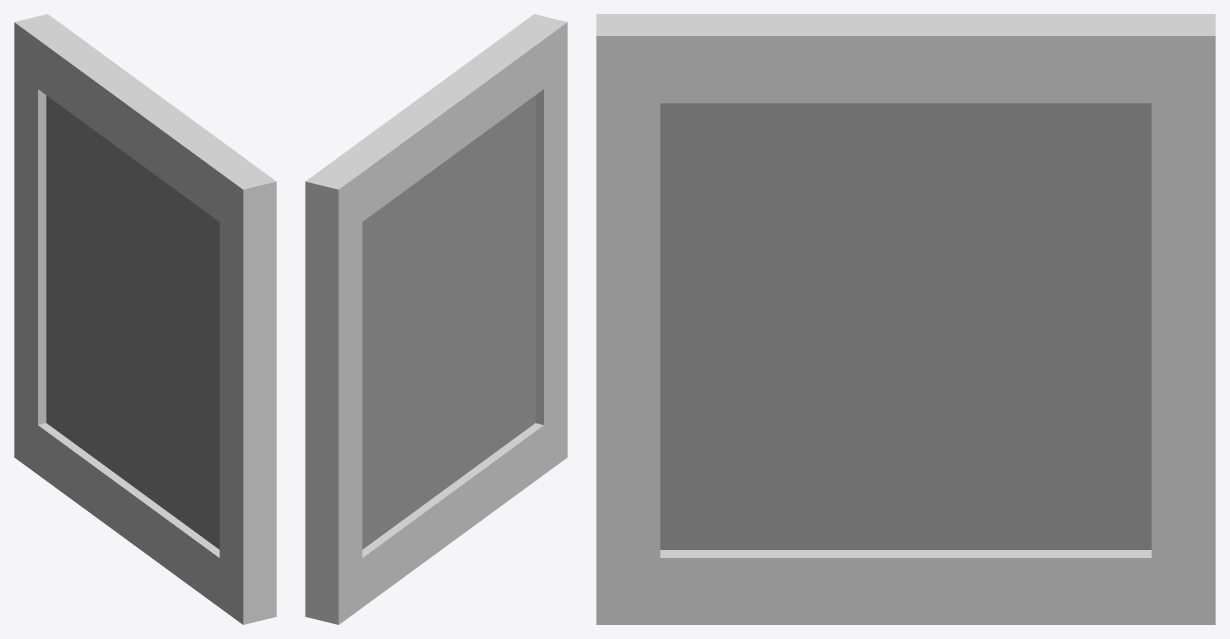
The model's file is fbx_speat_window.fbx.
3 renders of one model, left to right at view 1: azimuth 30°, elevation 25°; view 2: azimuth 150°, elevation 25°; view 3: azimuth 270°, elevation 25°, orthographic. The views are drawn at different scales.
Visible parts, largest first — view 1: fbx_speat_window; view 2: fbx_speat_window; view 3: fbx_speat_window.
Boxes of the visible parts, x1=… form: fbx_speat_window: x1=14, y1=14, x2=276, y2=624; fbx_speat_window: x1=305, y1=14, x2=567, y2=624; fbx_speat_window: x1=596, y1=14, x2=1215, y2=624.
Bounding box in the file's own units: 0.0687 × 0.8531 × 0.8132.
Materials: 2 (1 with a texture image).
